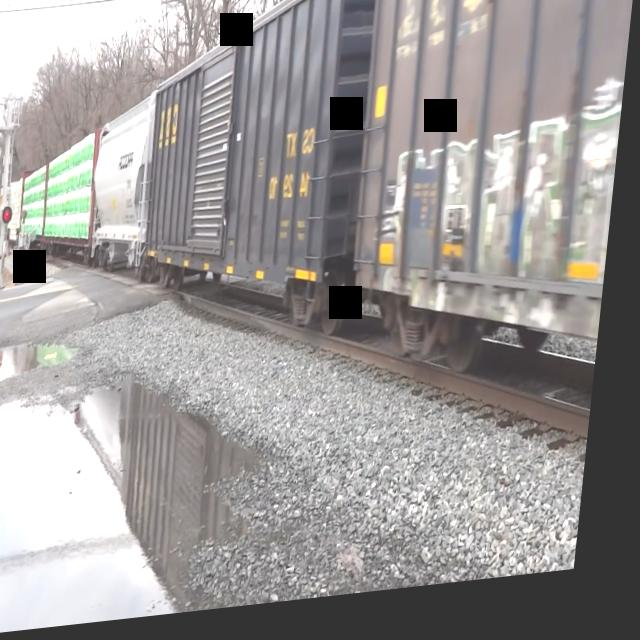boxcar: (344, 0, 640, 436), (140, 0, 383, 357)
tank: (83, 90, 160, 293)
